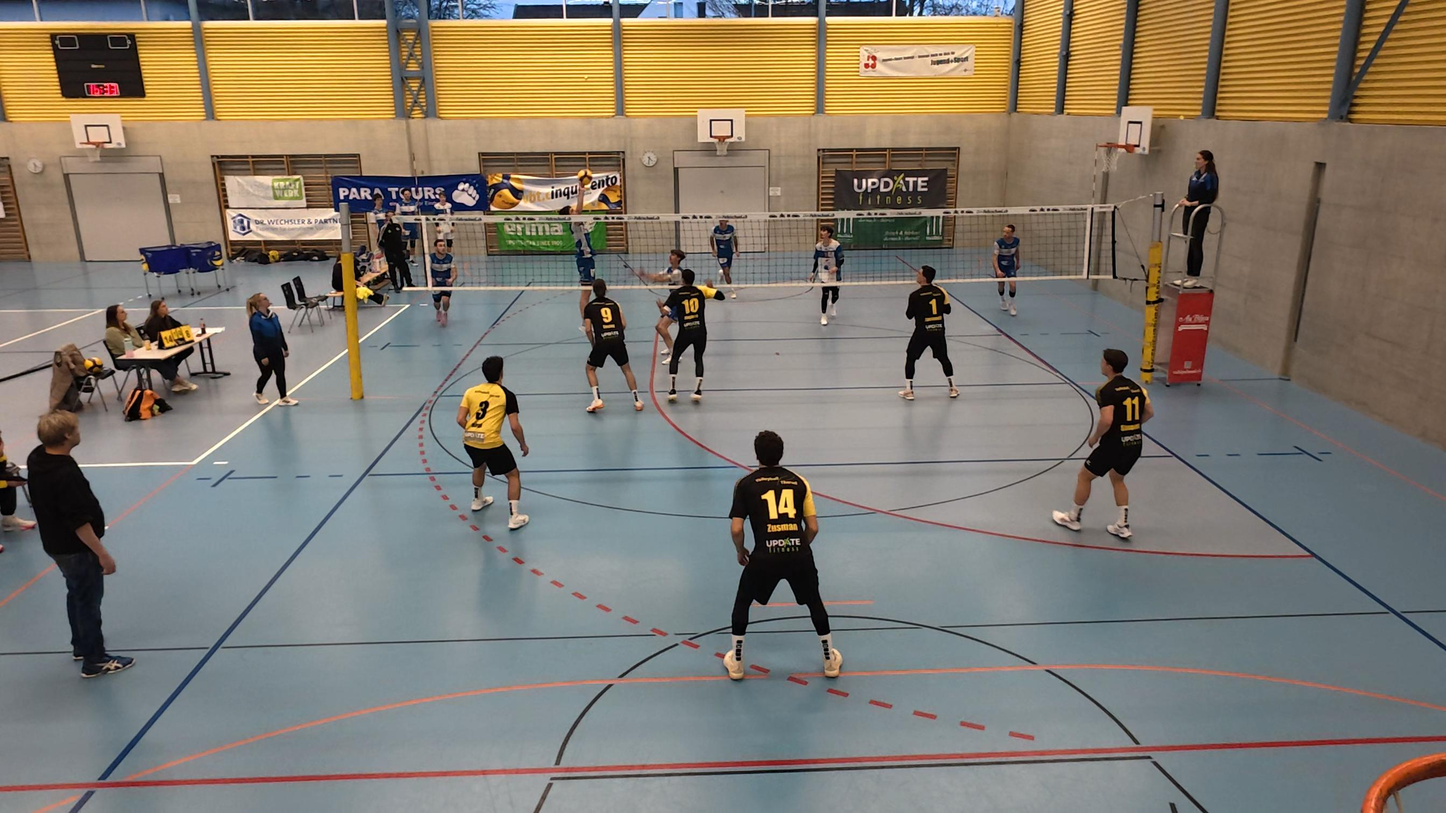alzata: (556, 169, 597, 342)
